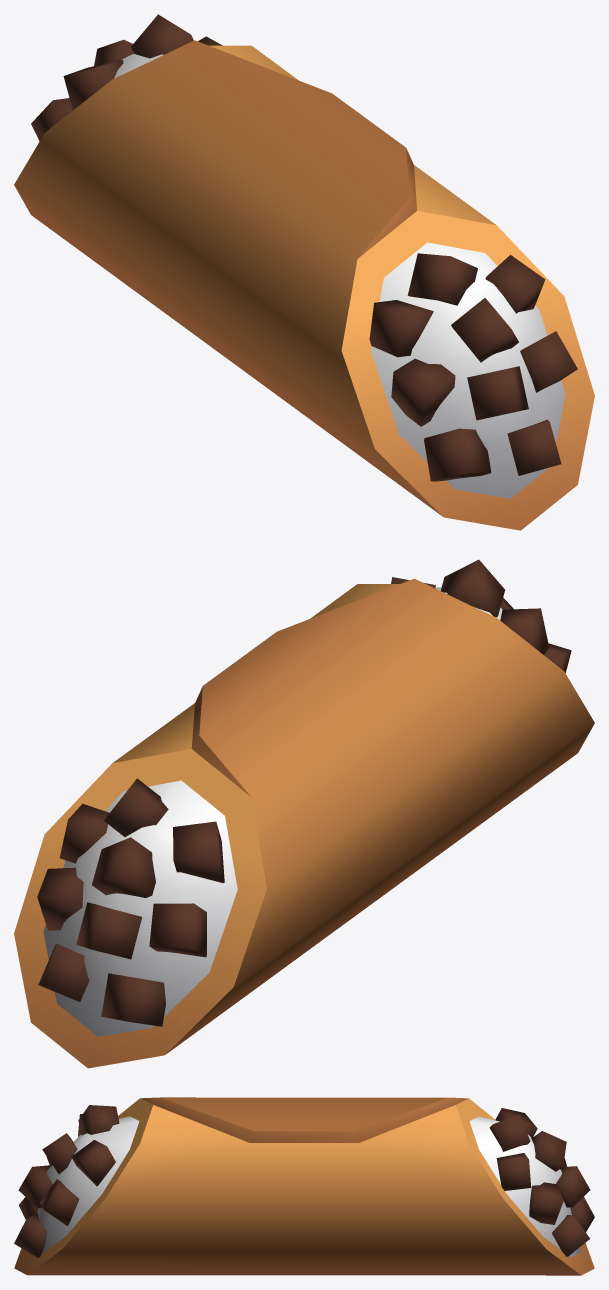
Rendered from m_Cannoli01.fbx.
3 renders of one model, top to bottom at view 1: azimuth 30°, elevation 25°; view 2: azimuth 150°, elevation 25°; view 3: azimuth 270°, elevation 25°, orthographic. The views are drawn at different scales.
Parts seen in each view (by area): view 1: m_Cannoli01; view 2: m_Cannoli01; view 3: m_Cannoli01.
Part boxes in pixels (bbox=[...]): m_Cannoli01: bbox=[14, 14, 594, 530]; m_Cannoli01: bbox=[14, 559, 594, 1068]; m_Cannoli01: bbox=[14, 1097, 594, 1275].
Bounding box in the file's own units: 3.13 × 3.4 × 10.53.
